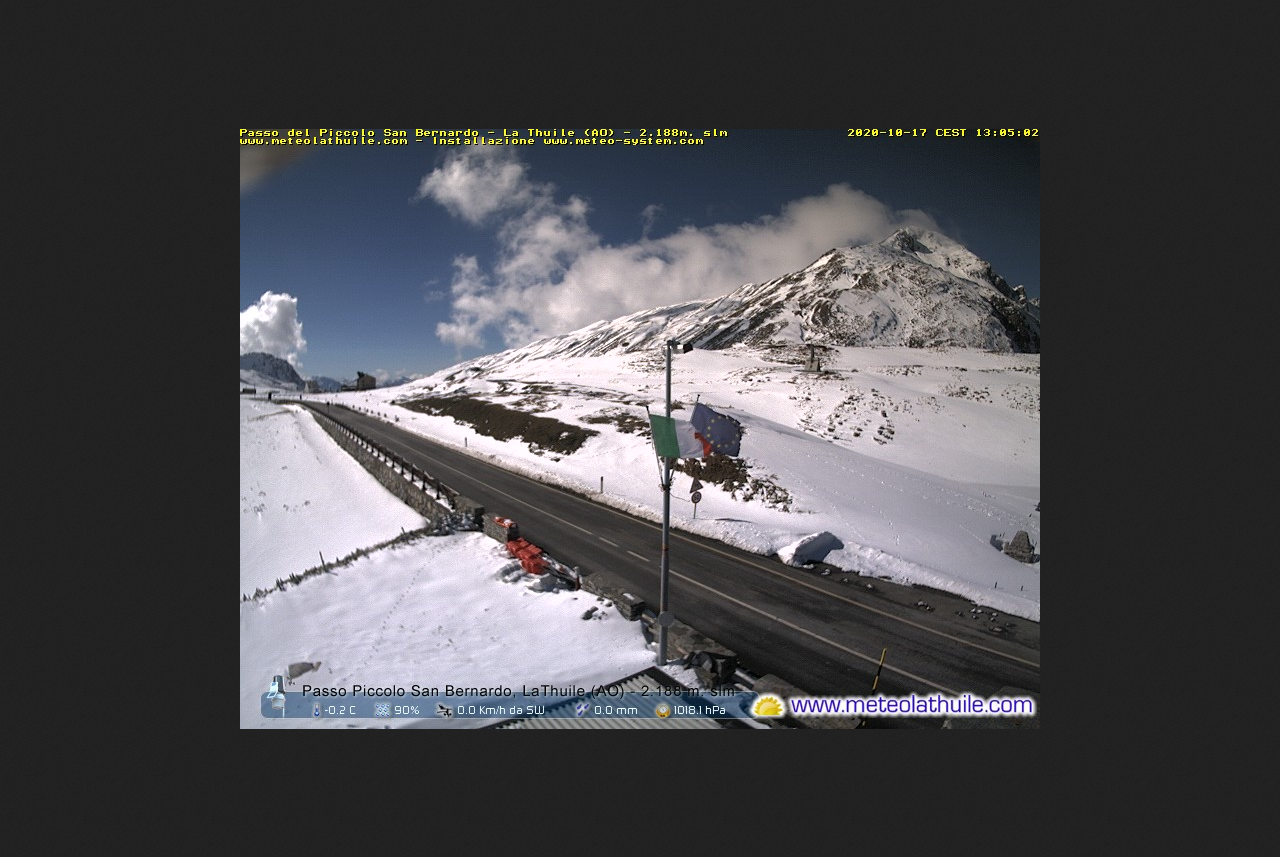yes: (678, 391, 748, 462), (644, 406, 721, 464)
